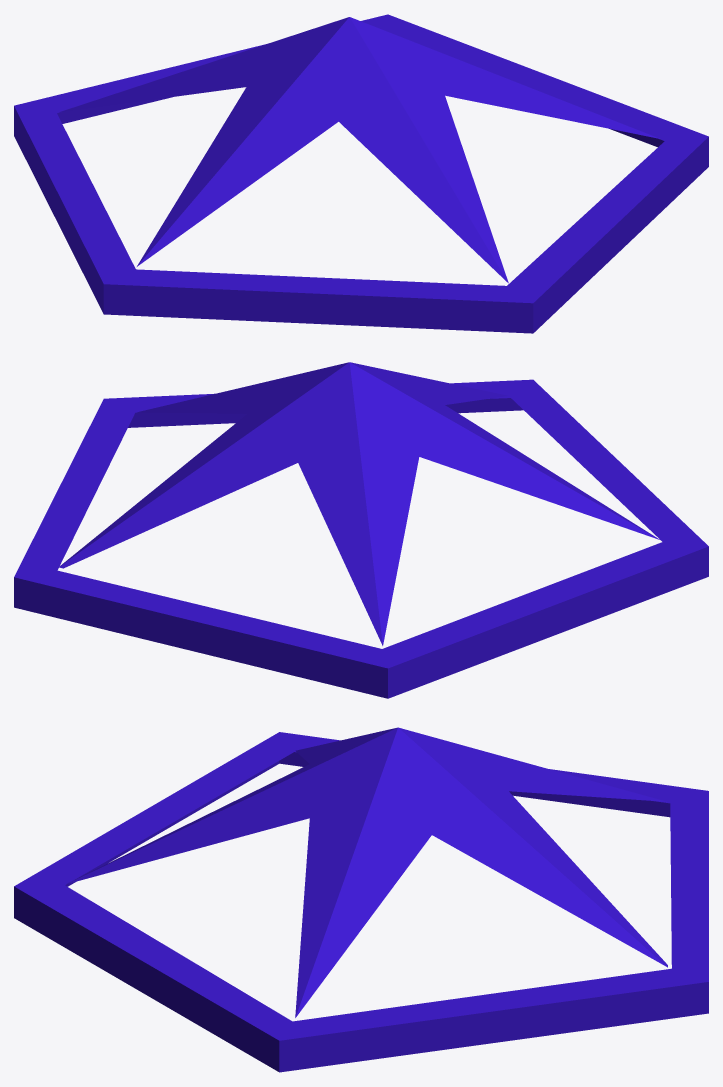
Rendered from star3d.fbx.
3 views of the same model, one above another, from view 1: azimuth 30°, elevation 25°; view 2: azimuth 150°, elevation 25°; view 3: azimuth 270°, elevation 25° (orthographic). The views are drawn at different scales.
Parts seen in each view (by area): view 1: Cone; view 2: Cone; view 3: Cone.
Boxes of the visible parts, x1,y1,x2,y2 form: Cone: (14, 14, 708, 333); Cone: (14, 362, 708, 698); Cone: (14, 727, 708, 1072).
Bounding box in the file's own units: 1.6 × 0.4605 × 1.52.
